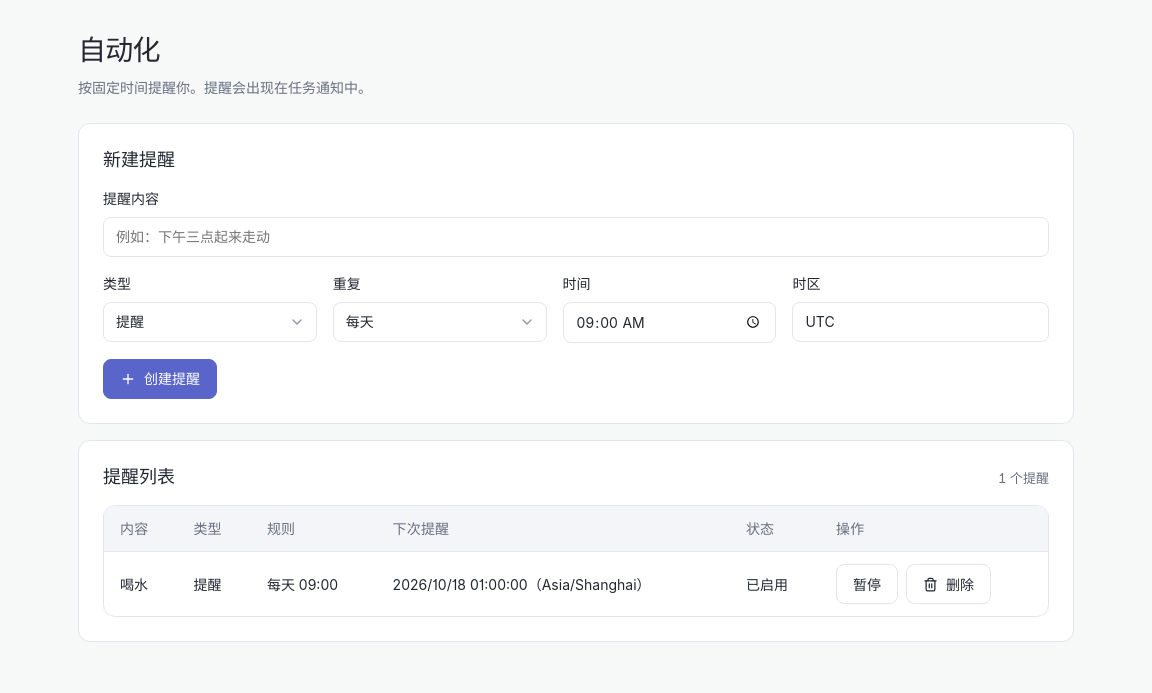
AutomationsPage › creates a daily reminder
Expected: the text "喝水" is shown, [104,552,178,616]
Type "站起来走动" into the field labelled "提醒内容".
click(576, 237); type("站起来走动")  # box [103,217,1049,257]
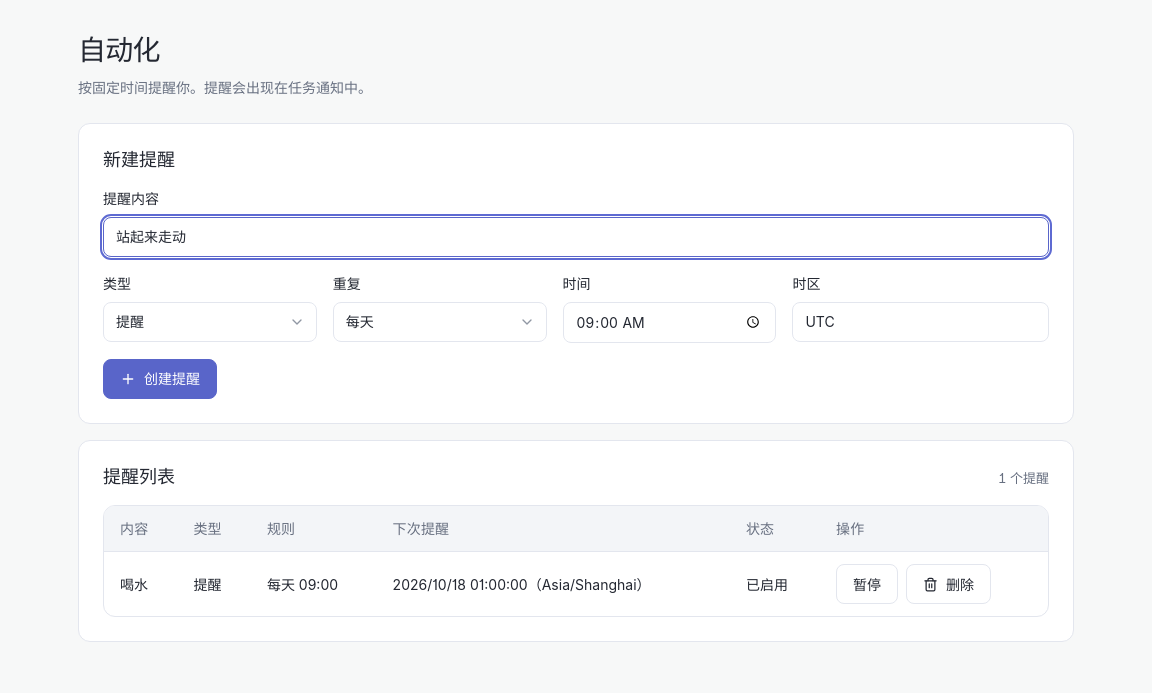
Click the button "创建提醒".
click(160, 379)  # box [103,359,217,399]
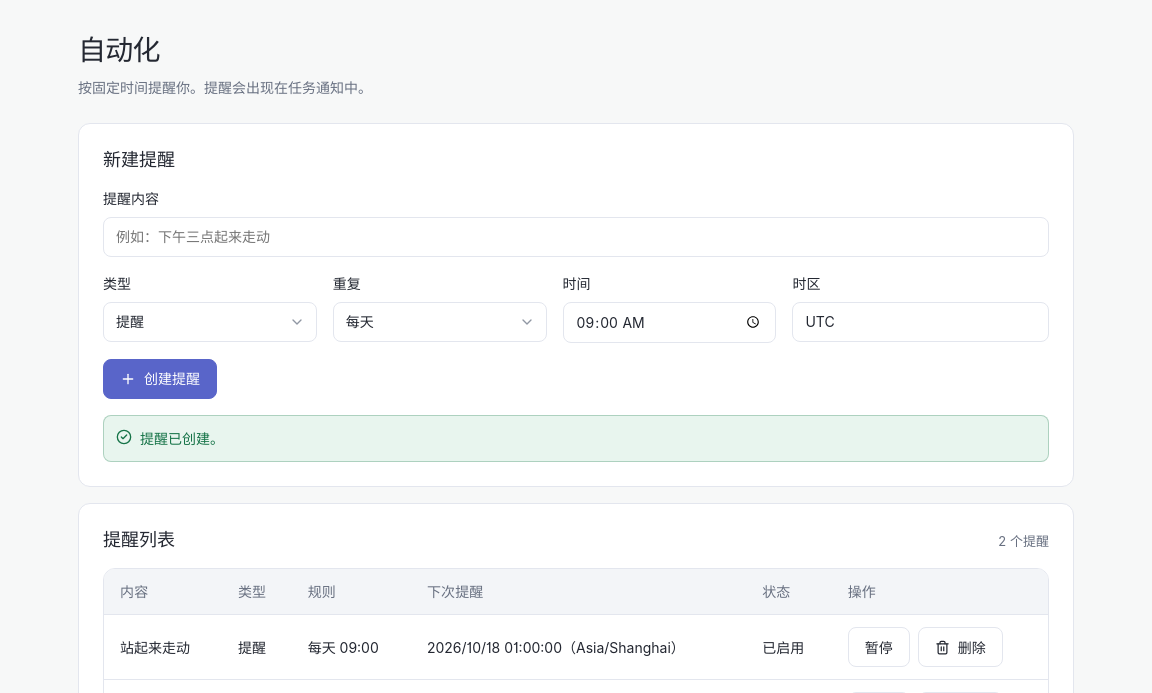
Now the text "提醒已创建。" is shown, box [140,430,224,447]
